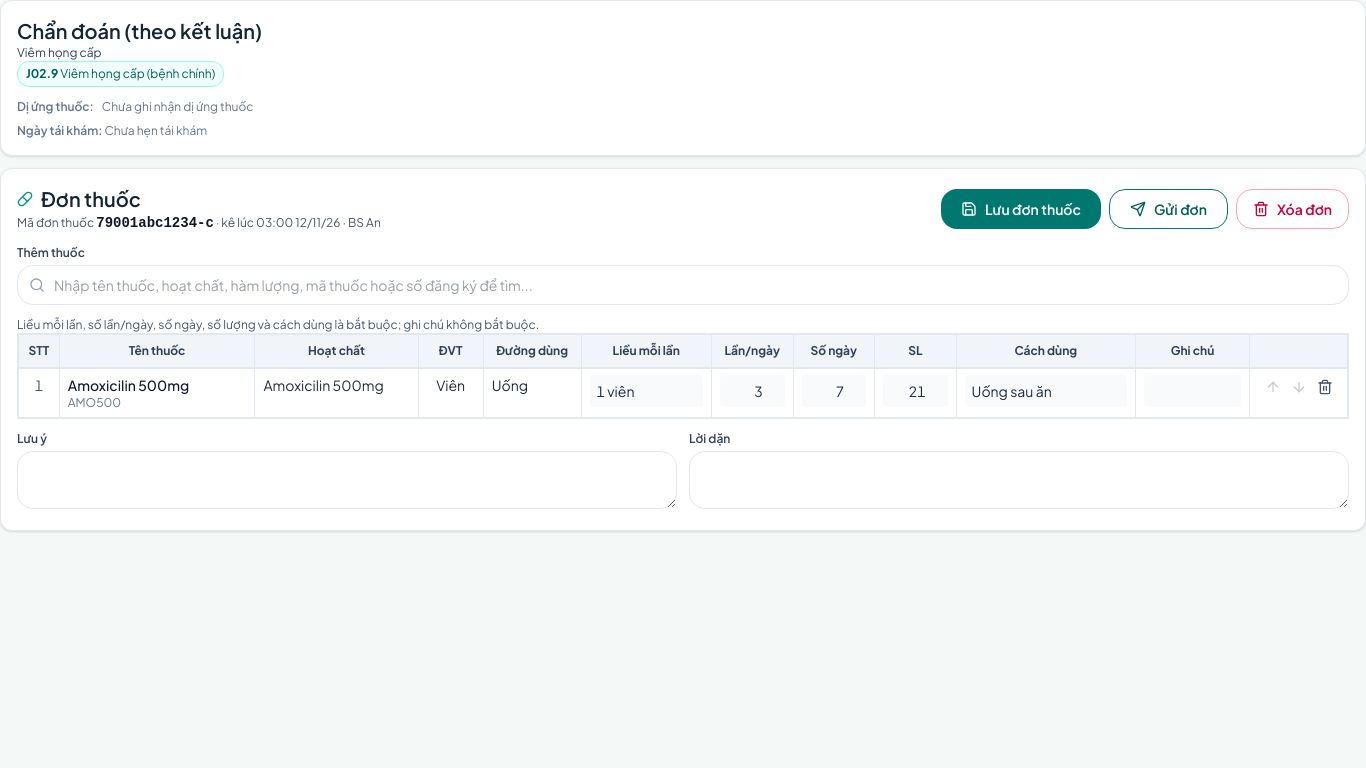
Test: PrescriptionPanel (UC-90 Gửi đơn thuốc điện tử) › reloads to show the attempt without an answer (AF-02)
Click the button "Gửi đơn".
click(1168, 209)  # box [1109,189,1228,229]
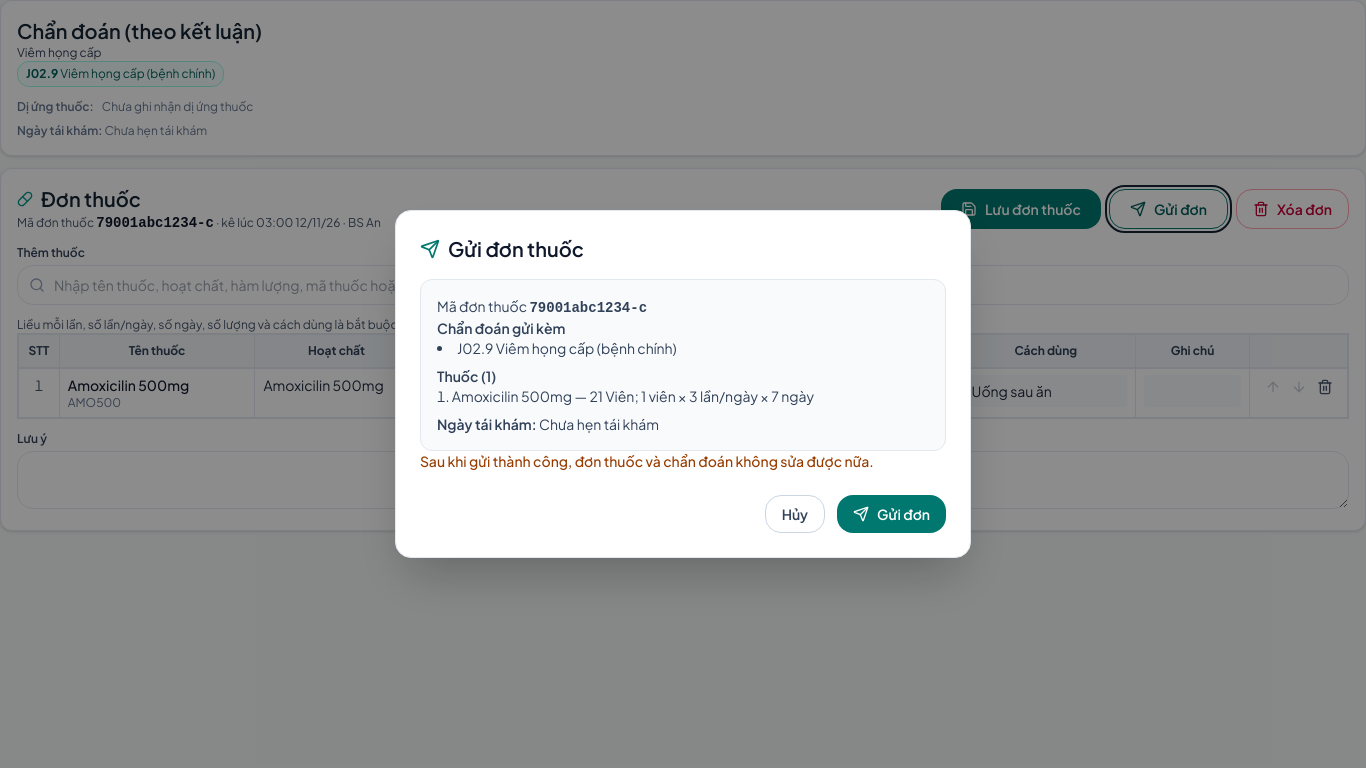
Now the text "Sau khi gửi thành công, đơn thuốc và chẩn đoán không sửa được nữa." is shown, box [420,451,946,471]
Click the button "Gửi đơn".
click(892, 514)  # box [837,495,946,533]
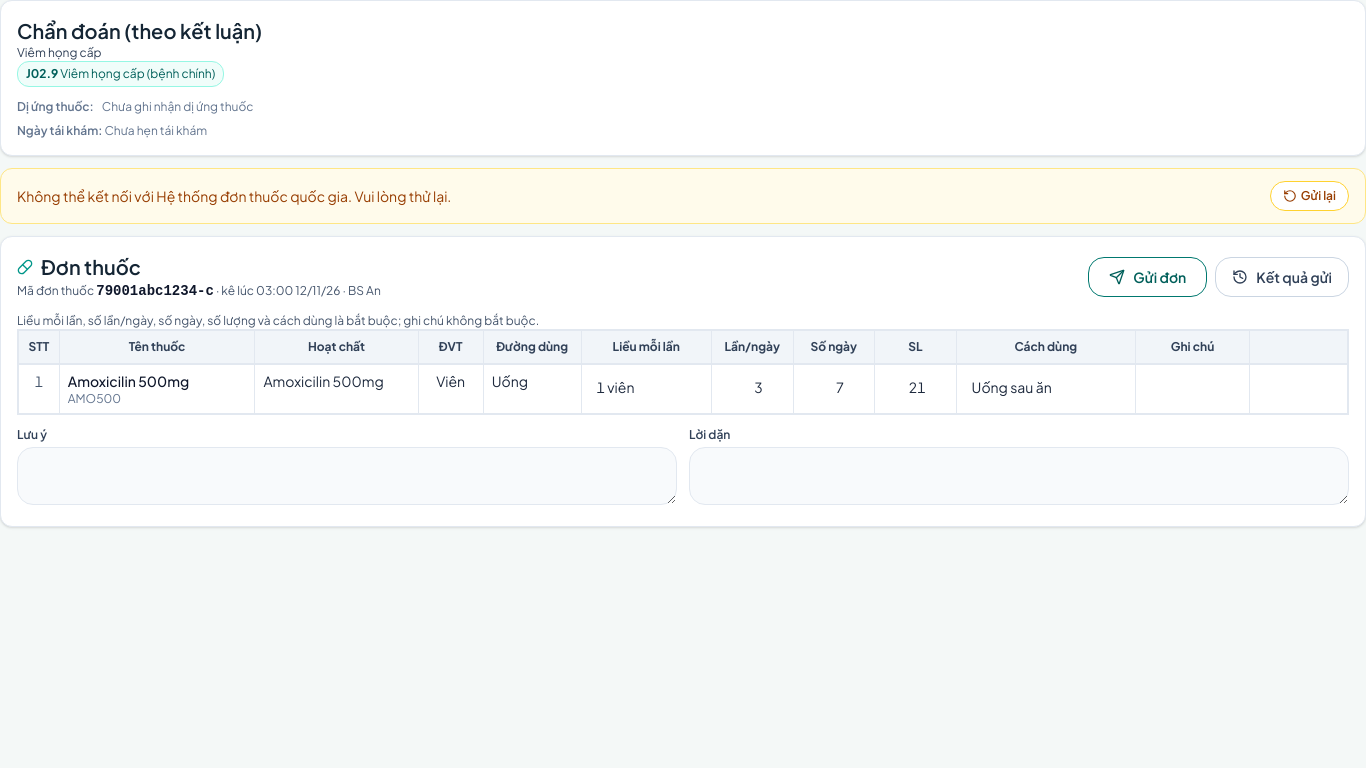
Now the message named "Kết quả gửi đơn thuốc" shows "Không thể kết nối với Hệ thống đơn thuốc quốc gia. Vui lòng thử lại.", box [17,187,451,205]
Now the dialog is gone
